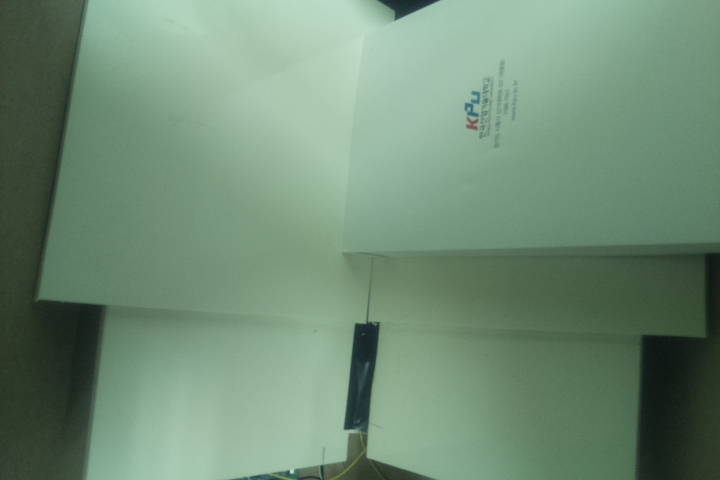book: (337, 1, 720, 262)
